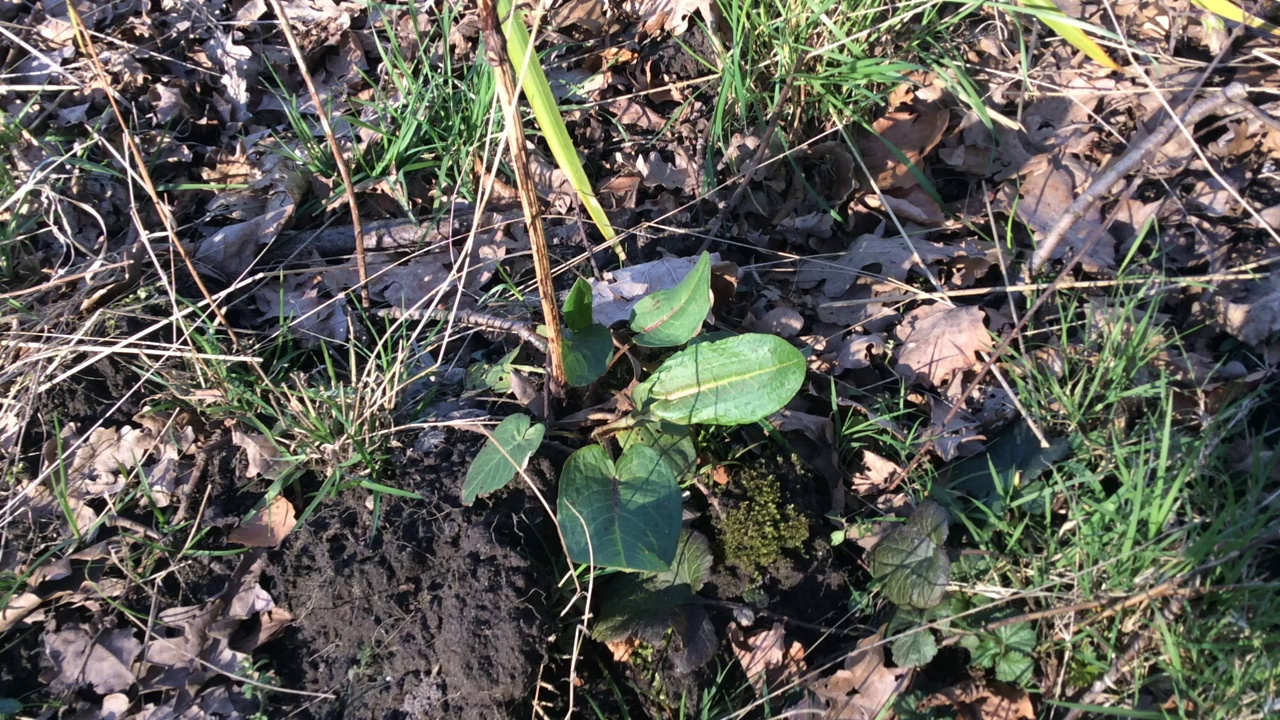rumex: (460, 255, 807, 573)
